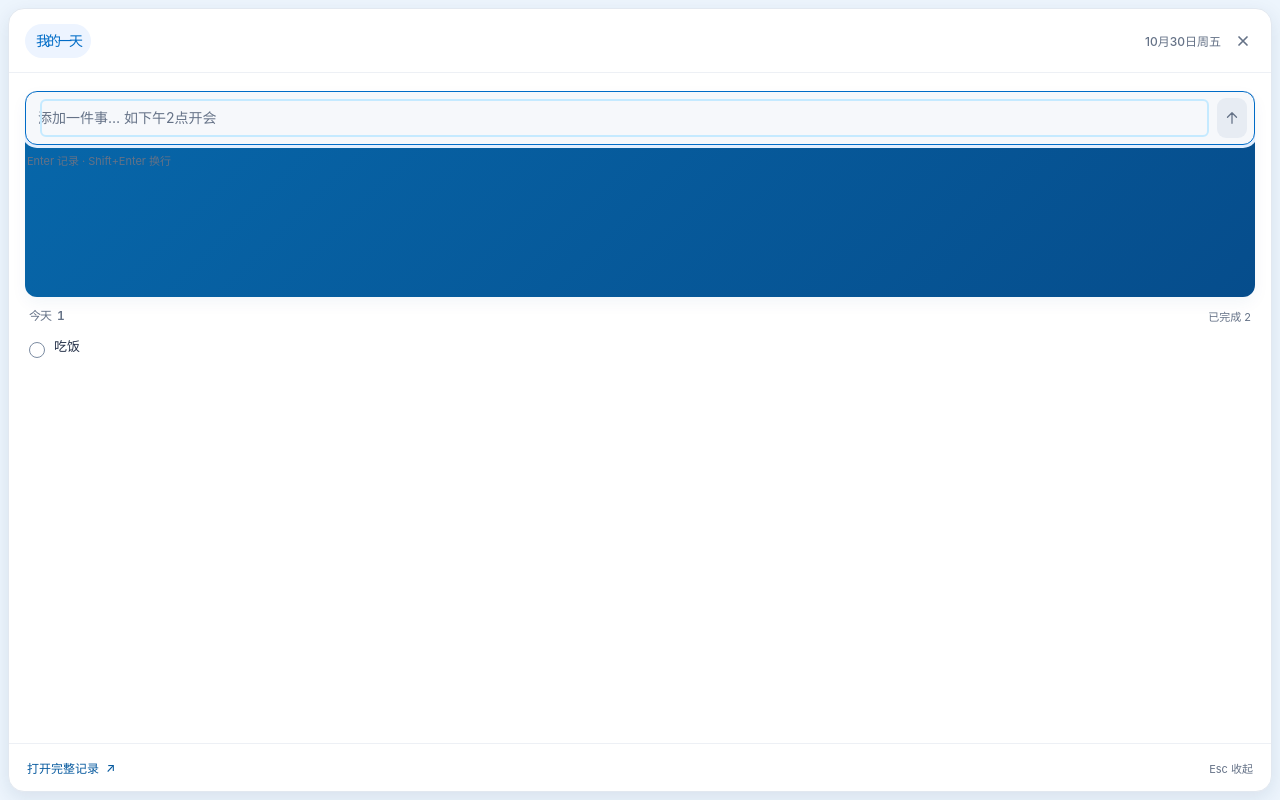
Test case: TodayPanelApp › completes the clicked task, refreshes the count and preserves the input draft
Type "还没提交的会议草稿" into the text box.
click(624, 118); type("还没提交的会议草稿")  # box [38,97,1211,139]
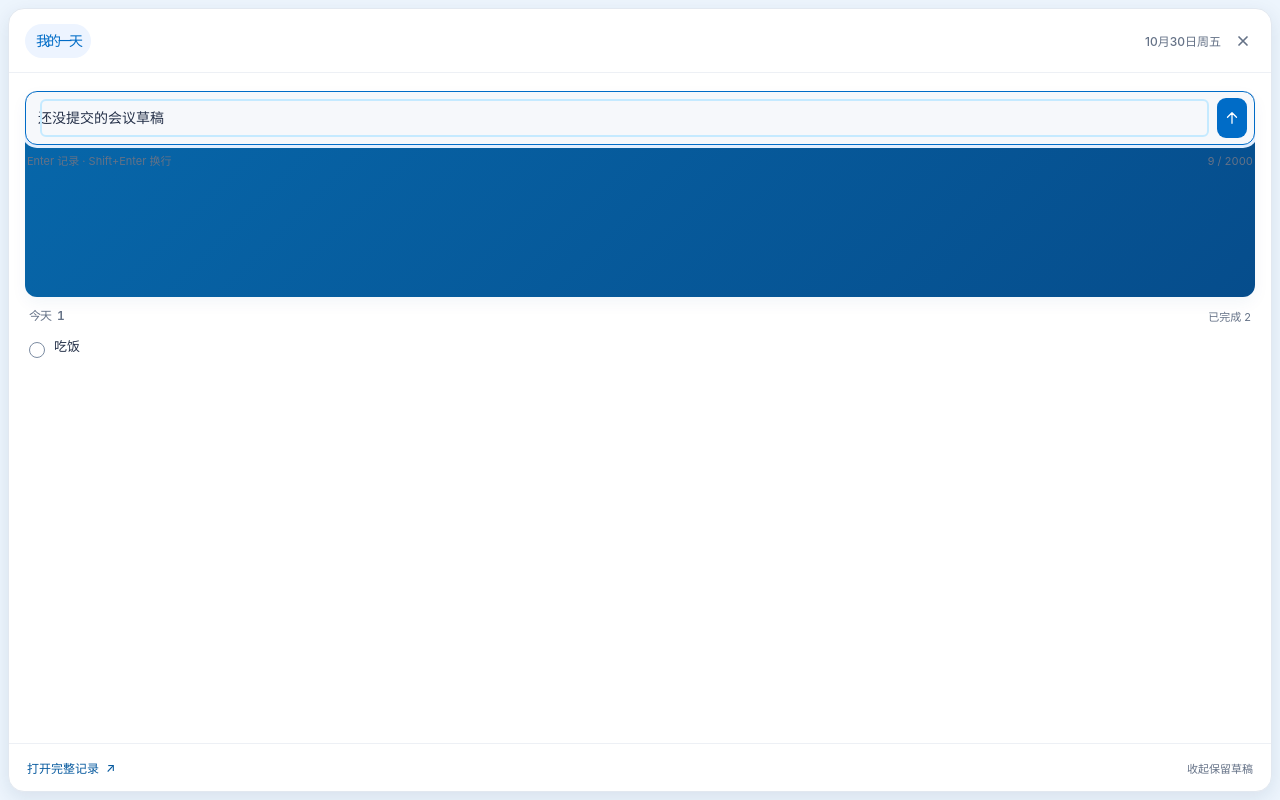
Click the button named "完成事项：吃饭".
click(37, 350)  # box [25,334,49,366]
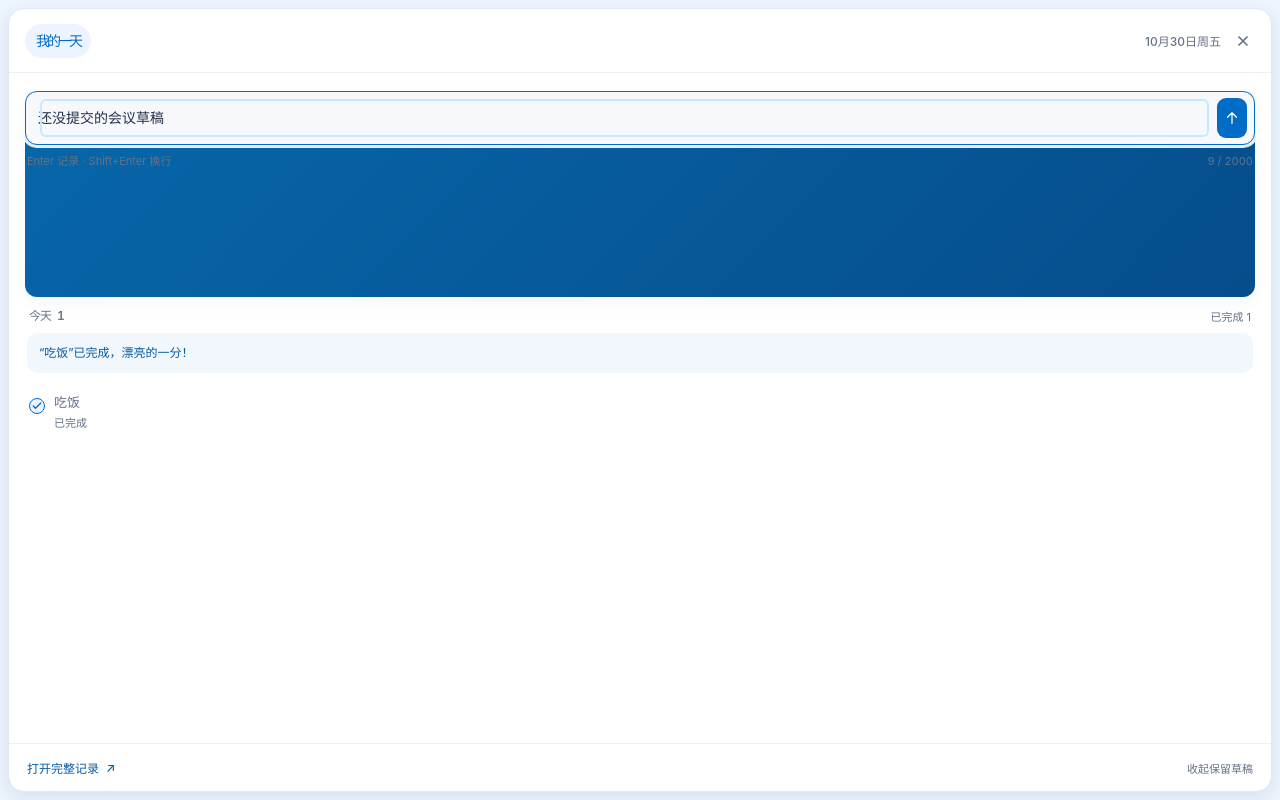
Result: the button named "已完成：吃饭" is disabled at [25,390,49,422]
Result: the text "已完成 1" is shown at [1210,308,1251,324]
